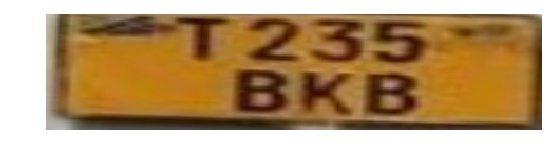T: (168, 14, 235, 68)
